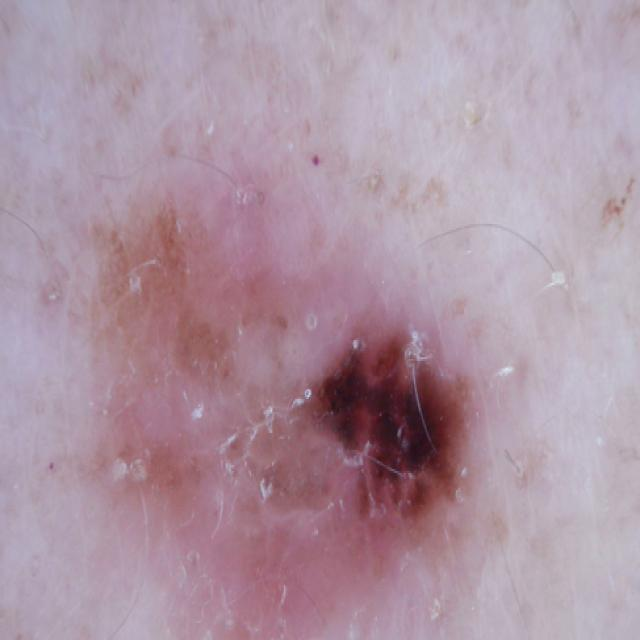Dermatofibroma: (74, 190, 560, 639)
